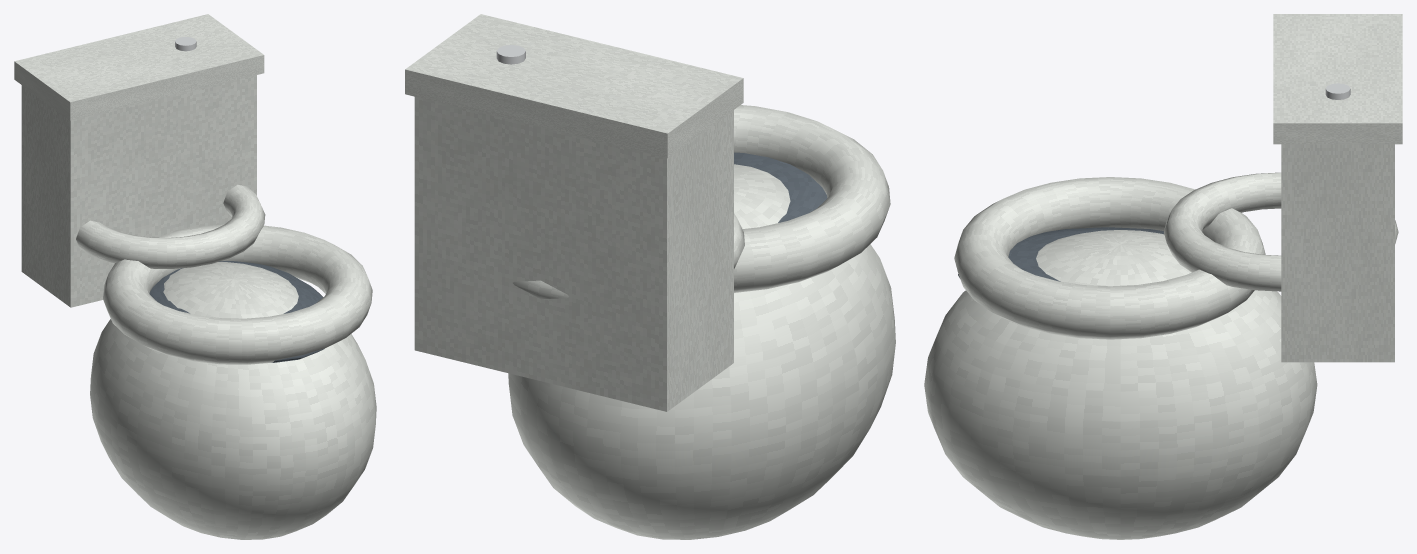
The model's file is toilet_floor01.glb.
The picture shows the model from 3 angles, left to right: view 1: azimuth 30°, elevation 25°; view 2: azimuth 150°, elevation 25°; view 3: azimuth 270°, elevation 25°; orthographic projection. The views are drawn at different scales.
Visible parts, largest first — view 1: bowl, tank, seat, tank_lid, cover, bowl_interior; view 2: tank, bowl, tank_lid, seat, bowl_interior, cover; view 3: bowl, seat, tank, tank_lid, cover, bowl_interior.
Boxes of the visible parts, x1=… form: bowl: x1=90, y1=262, x2=376, y2=539; tank: x1=21, y1=75, x2=256, y2=307; seat: x1=103, y1=224, x2=372, y2=364; tank_lid: x1=14, y1=14, x2=264, y2=120; cover: x1=76, y1=184, x2=265, y2=268; bowl_interior: x1=149, y1=261, x2=324, y2=362; tank: x1=414, y1=97, x2=733, y2=411; bowl: x1=508, y1=164, x2=895, y2=539; tank_lid: x1=405, y1=14, x2=743, y2=158; seat: x1=734, y1=105, x2=890, y2=292; bowl_interior: x1=734, y1=152, x2=827, y2=222; cover: x1=513, y1=213, x2=744, y2=299; bowl: x1=924, y1=230, x2=1317, y2=539; seat: x1=954, y1=177, x2=1265, y2=339; tank: x1=1281, y1=144, x2=1394, y2=362; tank_lid: x1=1273, y1=14, x2=1402, y2=144; cover: x1=1164, y1=172, x2=1398, y2=291; bowl_interior: x1=958, y1=227, x2=1163, y2=281.
Size of the model in its own units: 0.604 by 0.988 by 0.925.
Materials: 3 (2 with a texture image).
